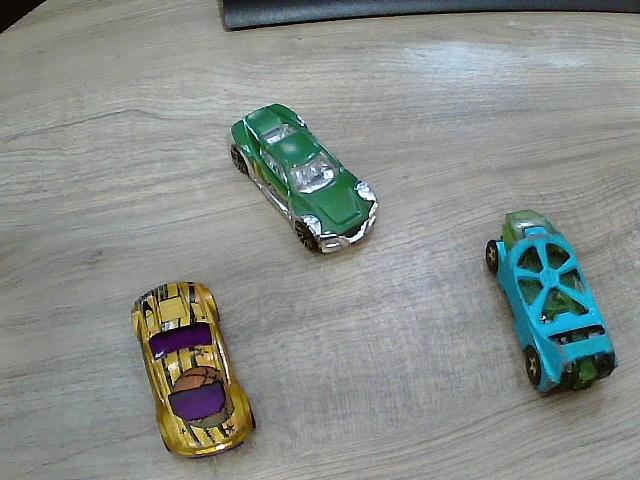Carro: (485, 211, 618, 397), (130, 282, 254, 460), (230, 105, 377, 252)
